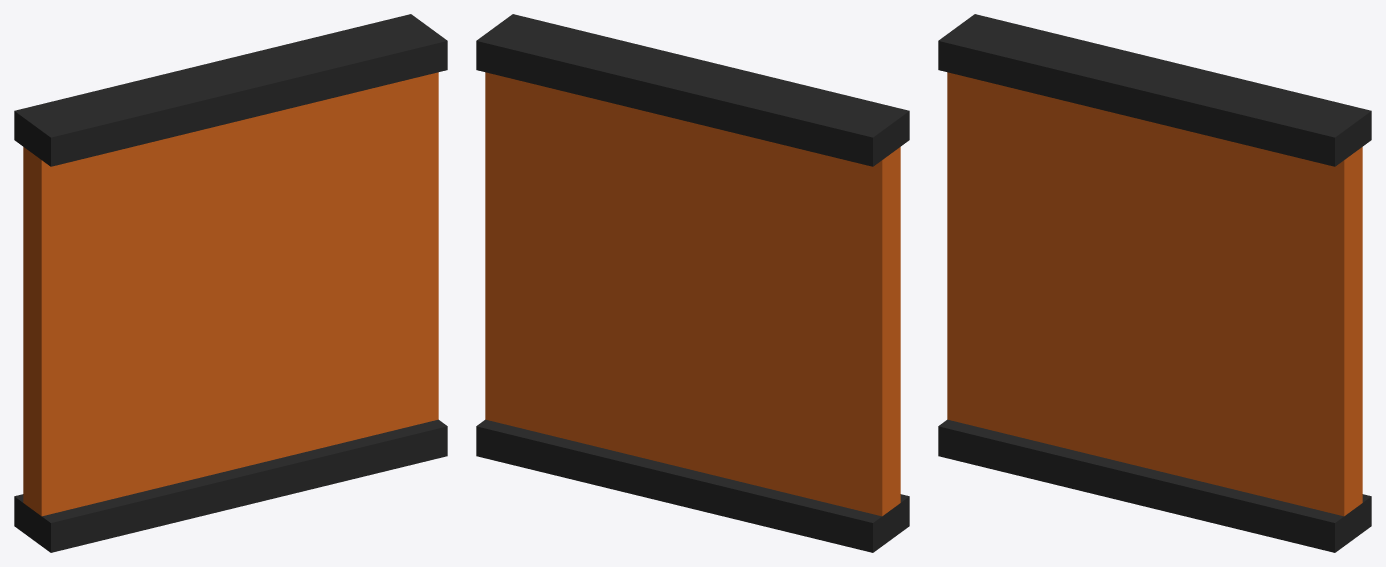
File: MOD_MurG2.FBX
The picture shows the model from 3 angles, left to right: view 1: azimuth 30°, elevation 25°; view 2: azimuth 150°, elevation 25°; view 3: azimuth 330°, elevation 25°; orthographic projection.
Parts seen in each view (by area): view 1: MUR_A; view 2: MUR_A; view 3: MUR_A.
Boxes of the visible parts, x1=… form: MUR_A: x1=14, y1=14, x2=447, y2=552; MUR_A: x1=476, y1=14, x2=909, y2=552; MUR_A: x1=938, y1=14, x2=1371, y2=552.
Size of the model in its own units: 0.9528 by 0.9528 by 0.1524.
